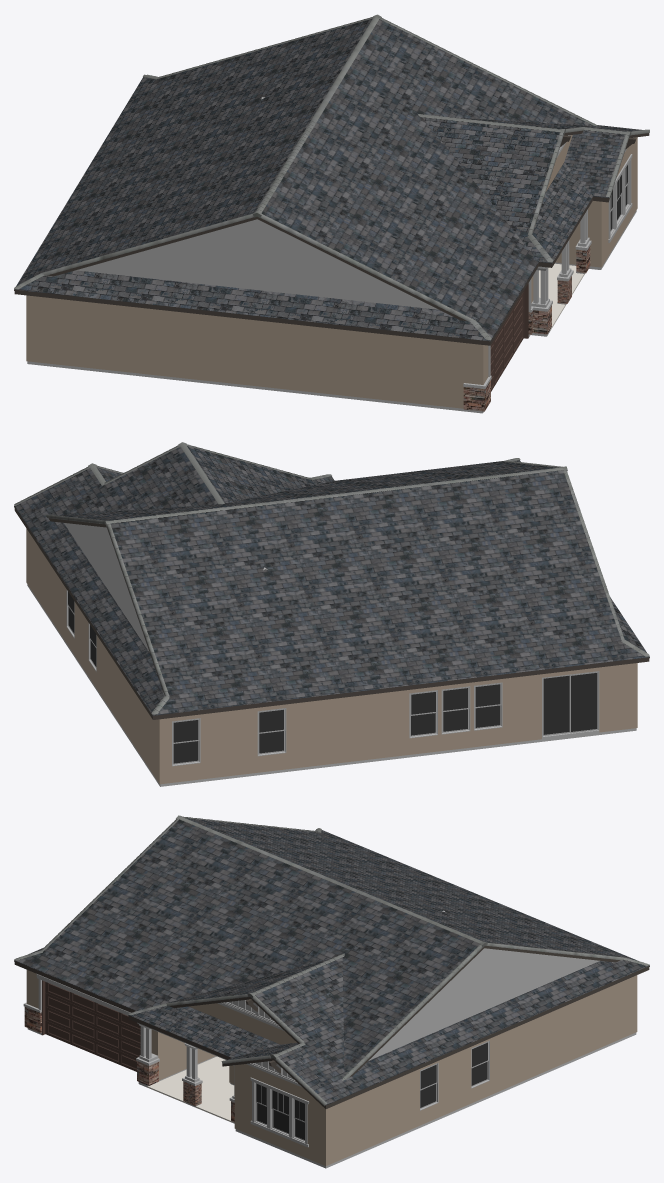
File: KBhomes_1860_elevation_spring_mountain.glb
3 renders of one model, top to bottom at view 1: azimuth 30°, elevation 25°; view 2: azimuth 150°, elevation 25°; view 3: azimuth 270°, elevation 25°, orthographic. The views are drawn at different scales.
Visible parts, largest first — view 1: front.002; view 2: front.002; view 3: front.002.
Boxes of the visible parts, box(x1,y1,x2,y2) form: front.002: box(14, 14, 649, 413); front.002: box(14, 442, 649, 786); front.002: box(14, 815, 649, 1168).
Bounding box in the file's own units: 22.41 × 5.78 × 21.78.
Materials: 10 (8 with a texture image).
